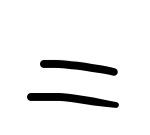eqv: (24, 55, 127, 111)
